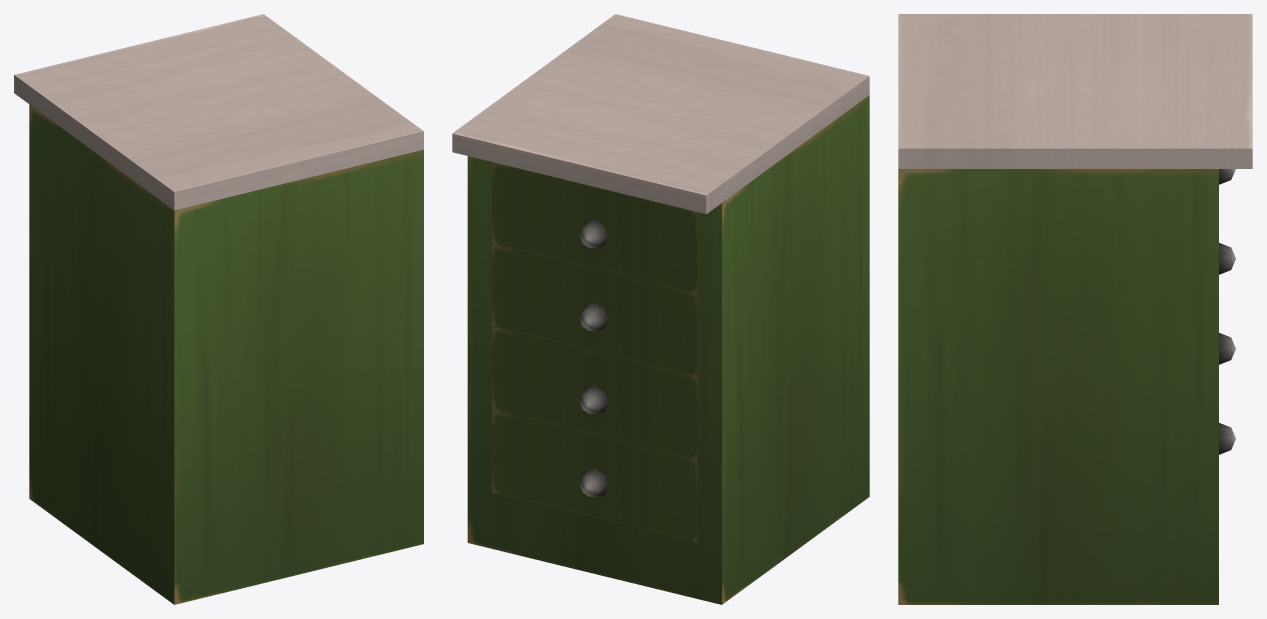
The model's file is FUR0110016.fbx.
3 renders of one model, left to right at view 1: azimuth 30°, elevation 25°; view 2: azimuth 150°, elevation 25°; view 3: azimuth 270°, elevation 25°, orthographic. The views are drawn at different scales.
Parts seen in each view (by area): view 1: smFUR0110016; view 2: smFUR0110016; view 3: smFUR0110016.
Part boxes in pixels (x1,y1,x2,y2): smFUR0110016: [14, 14, 423, 604]; smFUR0110016: [452, 14, 869, 604]; smFUR0110016: [898, 14, 1252, 604].
Size of the model in its own units: 62.38 by 98.63 by 69.39.
1 material, 1 textured.
